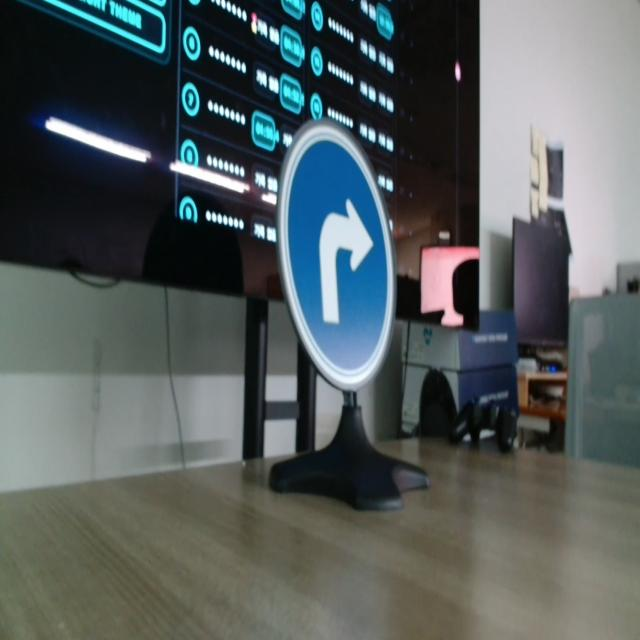right_dierection: (278, 72, 421, 434)
